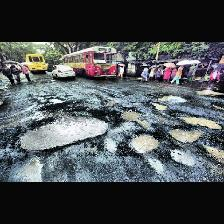pothole: (17, 114, 109, 150), (171, 110, 223, 130), (16, 154, 44, 182), (118, 108, 150, 128), (127, 132, 158, 152), (167, 127, 203, 143), (168, 148, 196, 168), (201, 144, 223, 162), (146, 154, 164, 174), (158, 94, 187, 102), (103, 136, 117, 152), (150, 100, 168, 112), (100, 96, 114, 106), (48, 98, 65, 103)
